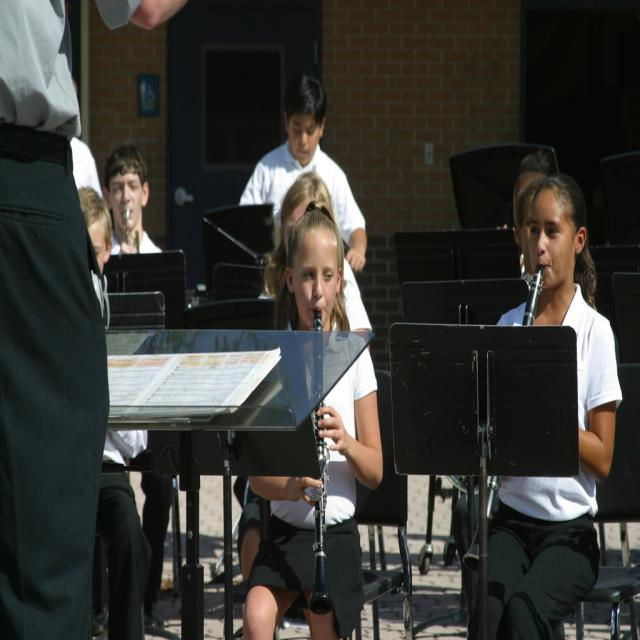clarinet: (475, 260, 545, 523), (306, 305, 335, 616)
